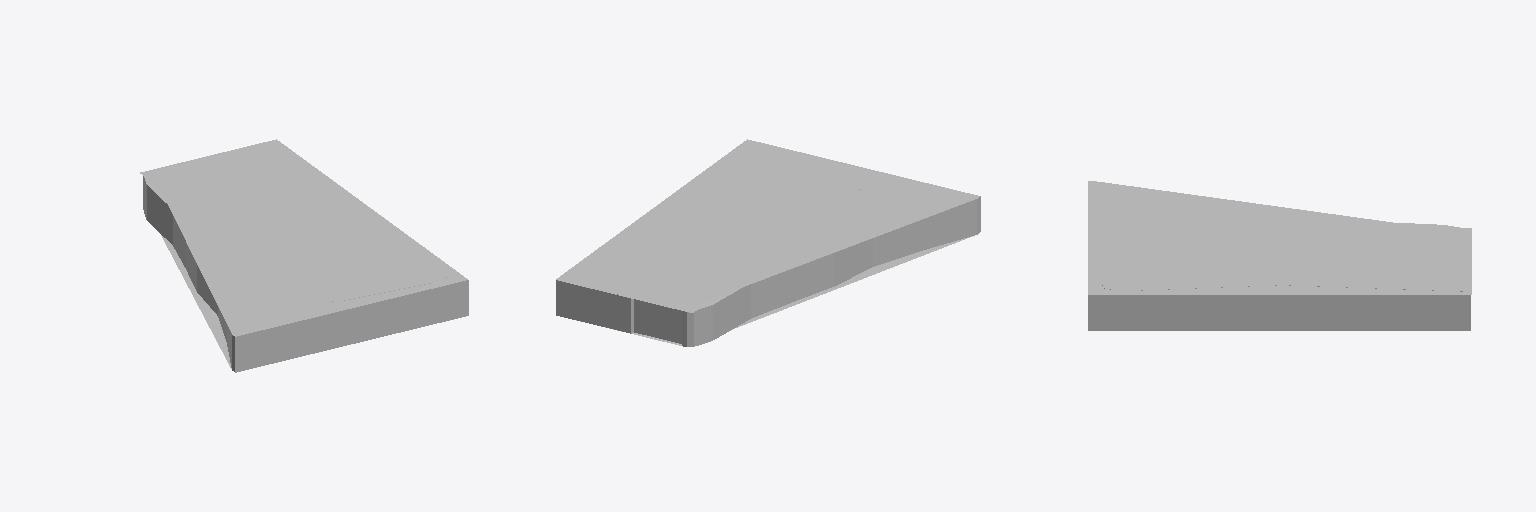
The model's file is rail.obj.
3 views of the same model, side by side, from view 1: azimuth 30°, elevation 25°; view 2: azimuth 150°, elevation 25°; view 3: azimuth 270°, elevation 25° (orthographic).
Parts seen in each view (by area): view 1: rail.obj; view 2: rail.obj; view 3: rail.obj.
Boxes of the visible parts, box(x1,y1,x2,y2) form: rail.obj: box(140, 139, 468, 372); rail.obj: box(556, 139, 980, 346); rail.obj: box(1088, 181, 1471, 330).
Bounding box in the file's own units: 5.1 × 0.752 × 7.26.